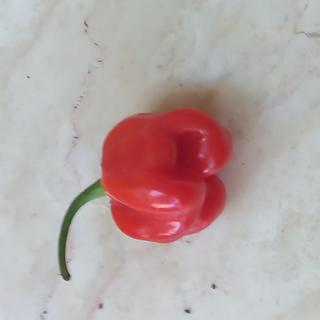Grade-B: (95, 102, 234, 247)
